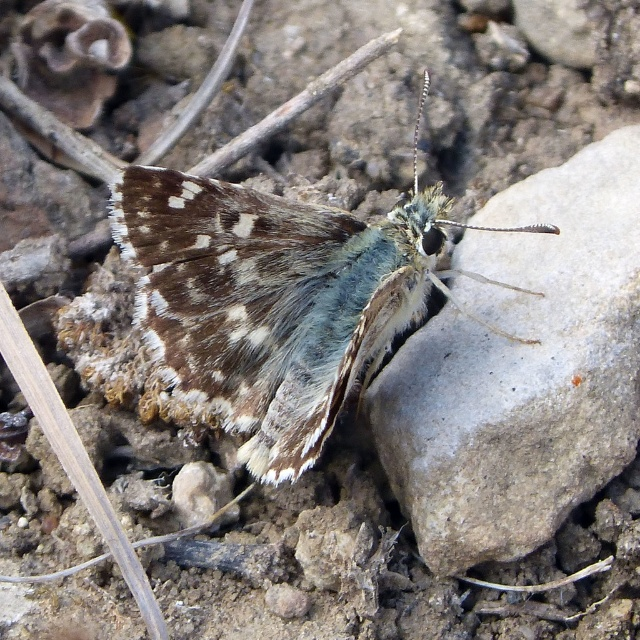Butterfly: (78, 92, 584, 560)
